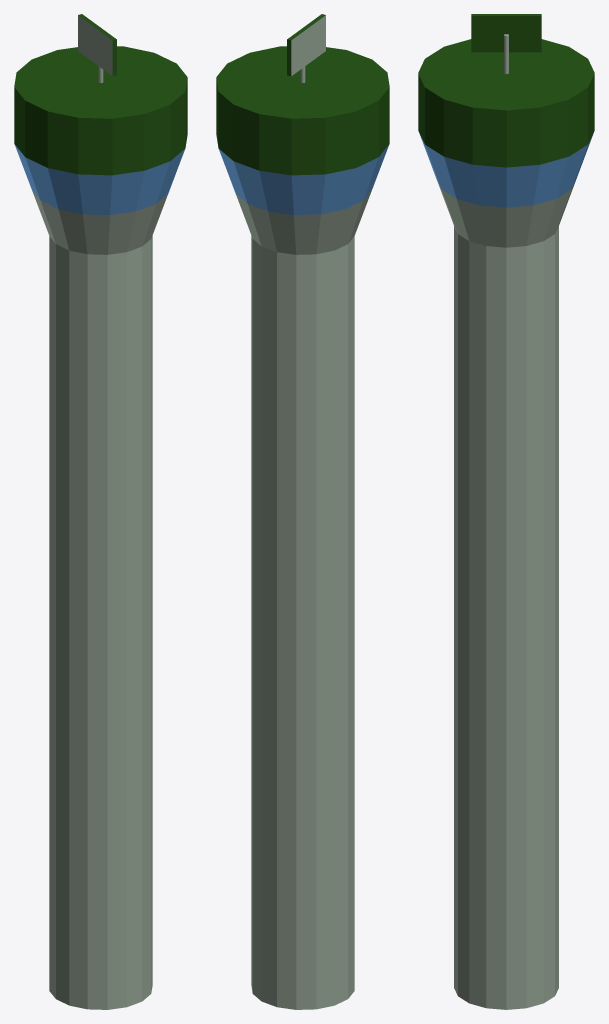
File: sea_supply_station.o9ptk9at.glb
3 renders of one model, left to right at view 1: azimuth 30°, elevation 25°; view 2: azimuth 150°, elevation 25°; view 3: azimuth 270°, elevation 25°, orthographic.
Parts seen in each view (by area): view 1: base, head, Würfel; view 2: base, head, Würfel; view 3: base, head, Würfel.
Boxes of the visible parts, bbox=[...] form: base: bbox=[49, 236, 152, 1009]; head: bbox=[14, 46, 187, 254]; Würfel: bbox=[78, 14, 116, 76]; base: bbox=[251, 236, 354, 1009]; head: bbox=[216, 46, 389, 254]; Würfel: bbox=[287, 14, 325, 76]; base: bbox=[454, 226, 558, 1009]; head: bbox=[418, 39, 594, 247]; Würfel: bbox=[471, 14, 541, 52].
Size of the model in its own units: 0.4201 by 2.55 by 0.4201.
